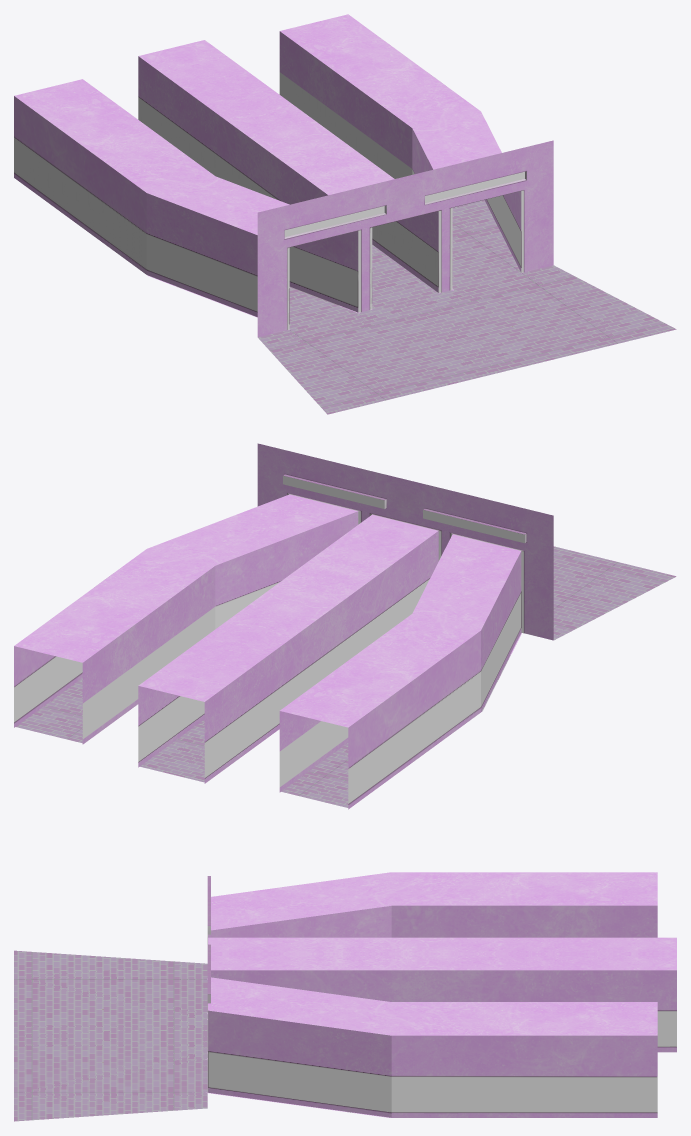
File: SM_Wall_Toxic.fbx
3 views of the same model, one above another, from view 1: azimuth 30°, elevation 25°; view 2: azimuth 150°, elevation 25°; view 3: azimuth 270°, elevation 25° (orthographic).
Visible parts, largest first — view 1: Plane; view 2: Plane; view 3: Plane.
Part boxes in pixels (x1,y1,x2,y2): Plane: [14, 14, 676, 414]; Plane: [14, 443, 676, 809]; Plane: [14, 872, 676, 1121].
Bounding box in the file's own units: 2275 × 777 × 3731.
